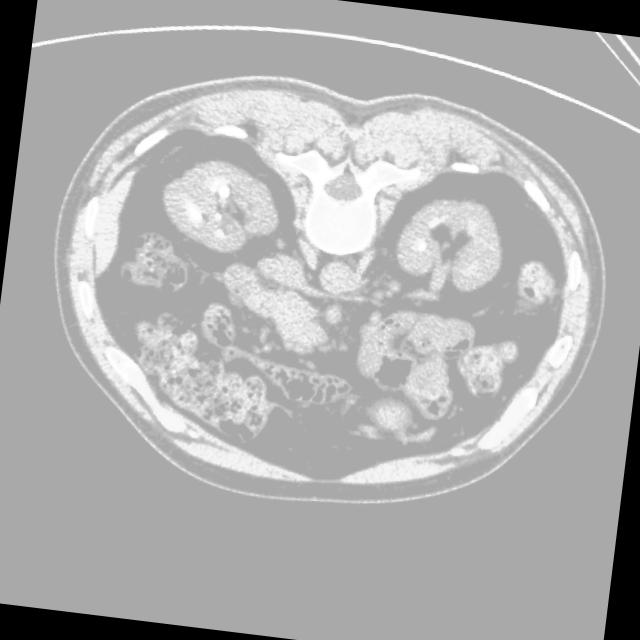STONE: (121, 150, 532, 389)
